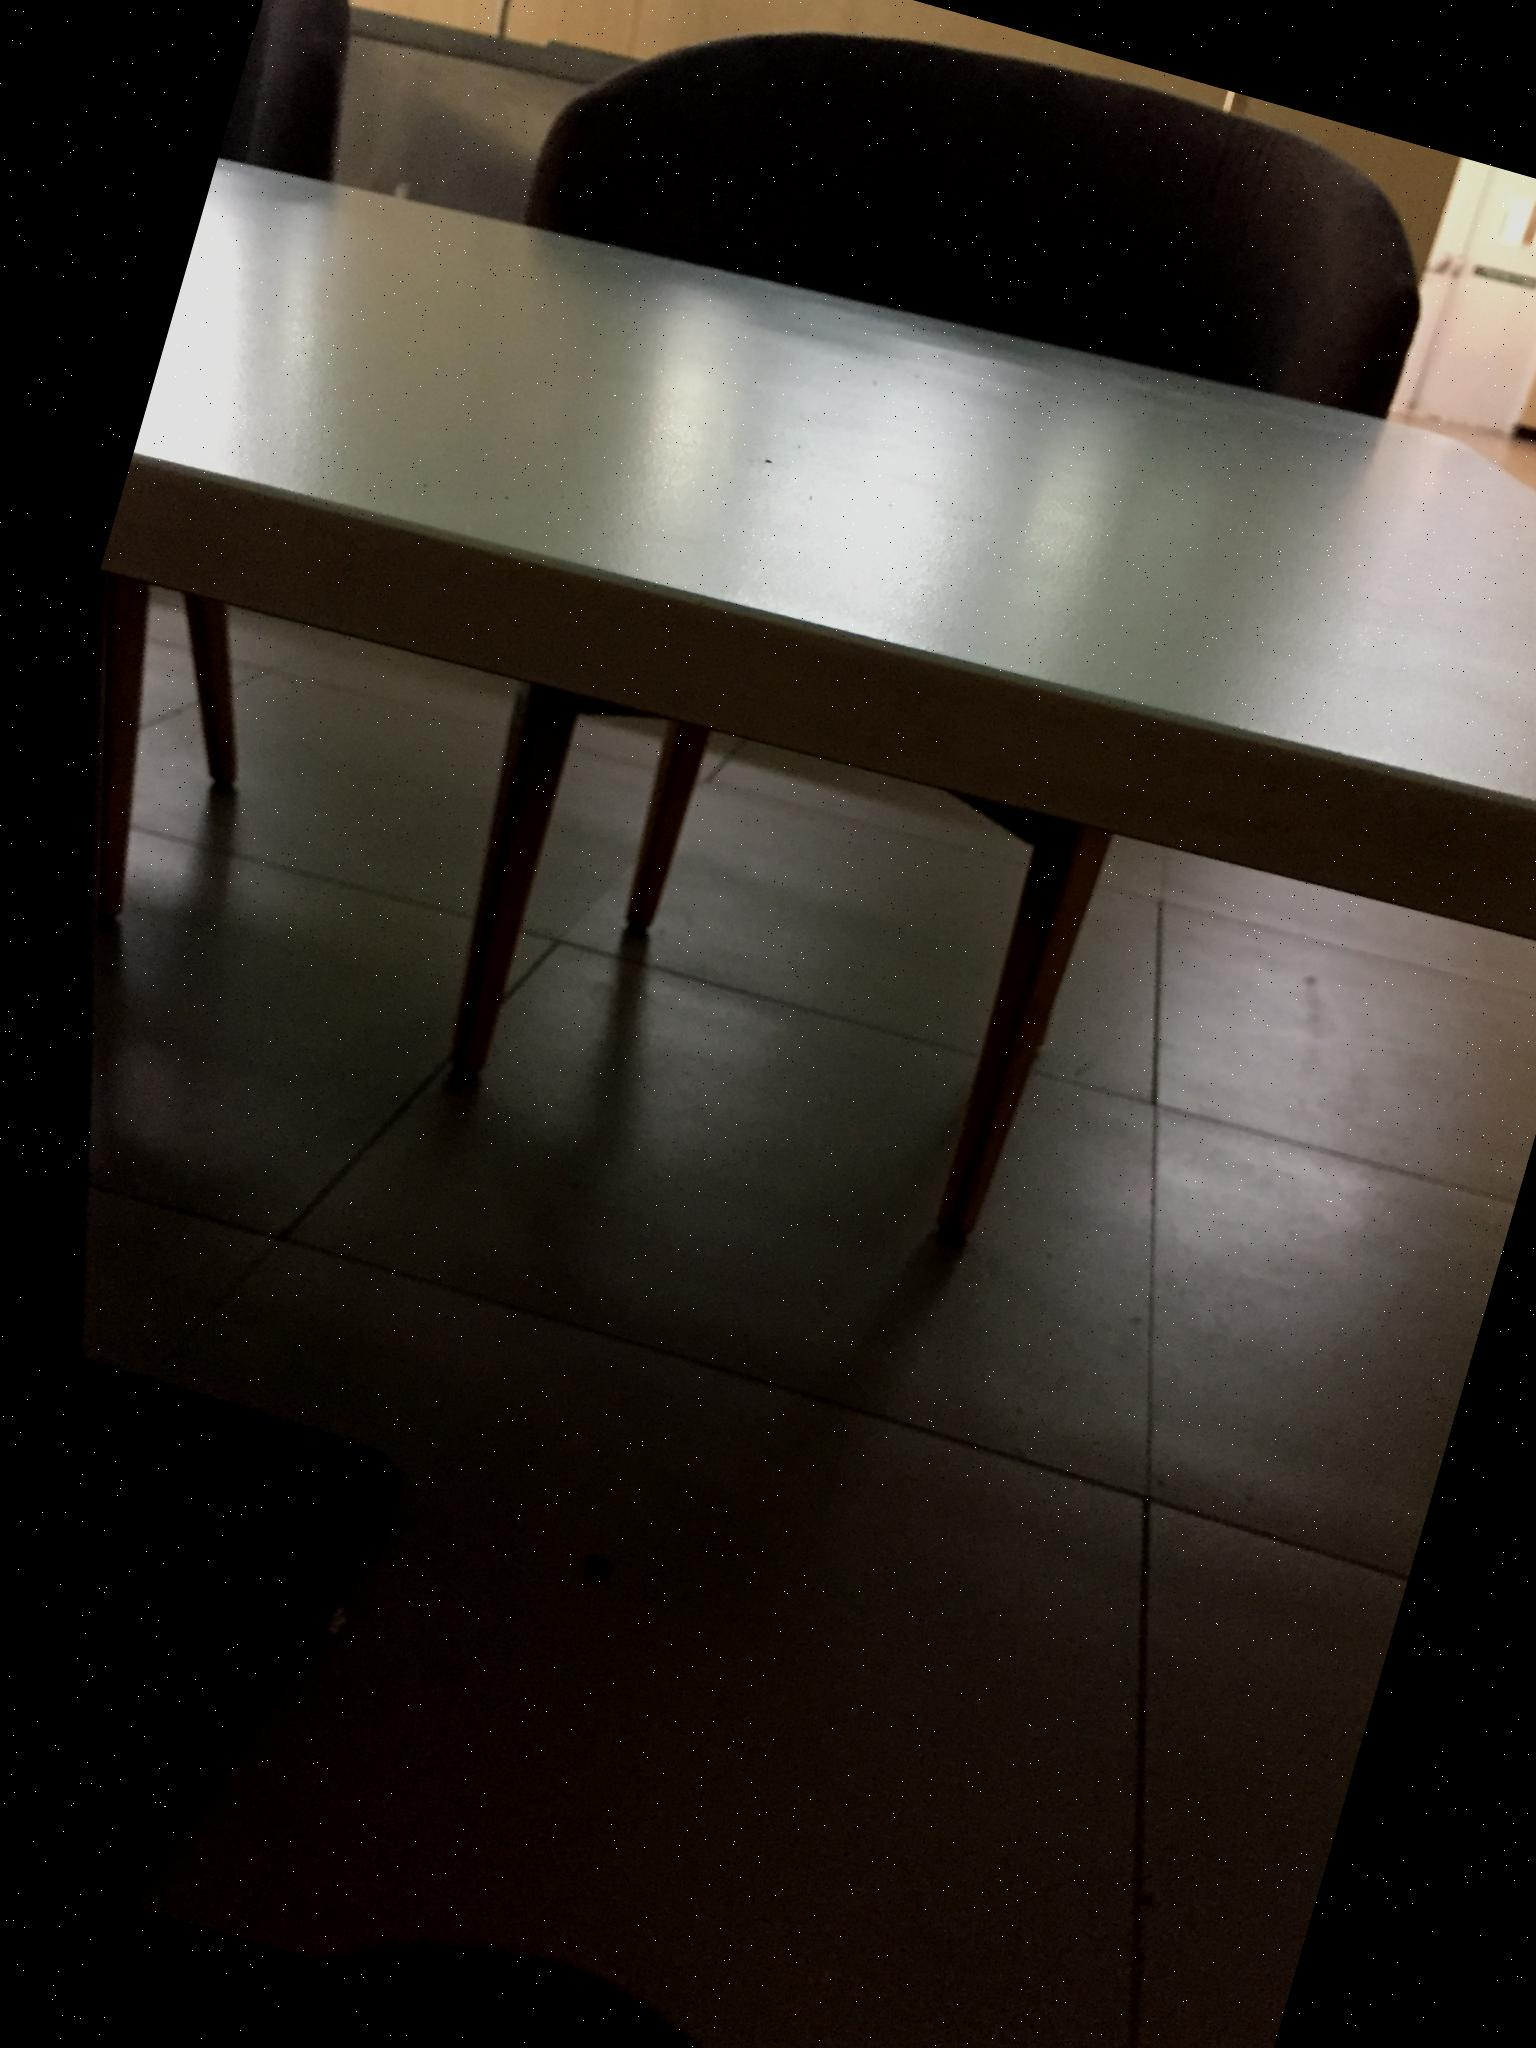chair: (281, 0, 1460, 1288), (23, 0, 473, 887)
